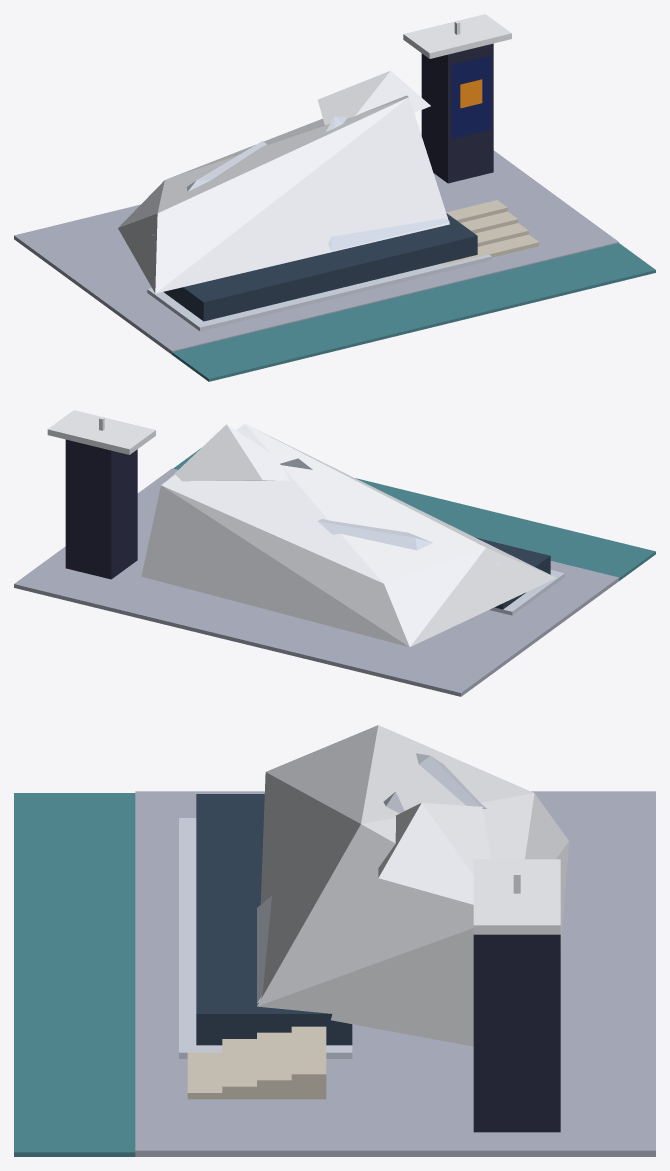
File: eye-museum-5x4.glb
3 renders of one model, top to bottom at view 1: azimuth 30°, elevation 25°; view 2: azimuth 150°, elevation 25°; view 3: azimuth 270°, elevation 25°, orthographic. The views are drawn at different scales.
Visible parts, largest first — view 1: eye-museum-5x4; view 2: eye-museum-5x4; view 3: eye-museum-5x4.
Boxes of the visible parts, left/top/right/bottom form: eye-museum-5x4: left=14, top=14, right=655, bottom=381; eye-museum-5x4: left=14, top=410, right=655, bottom=696; eye-museum-5x4: left=14, top=725, right=655, bottom=1156.
Bounding box in the file's own units: 4.9 × 1.57 × 3.7.
1 material, 1 textured.
